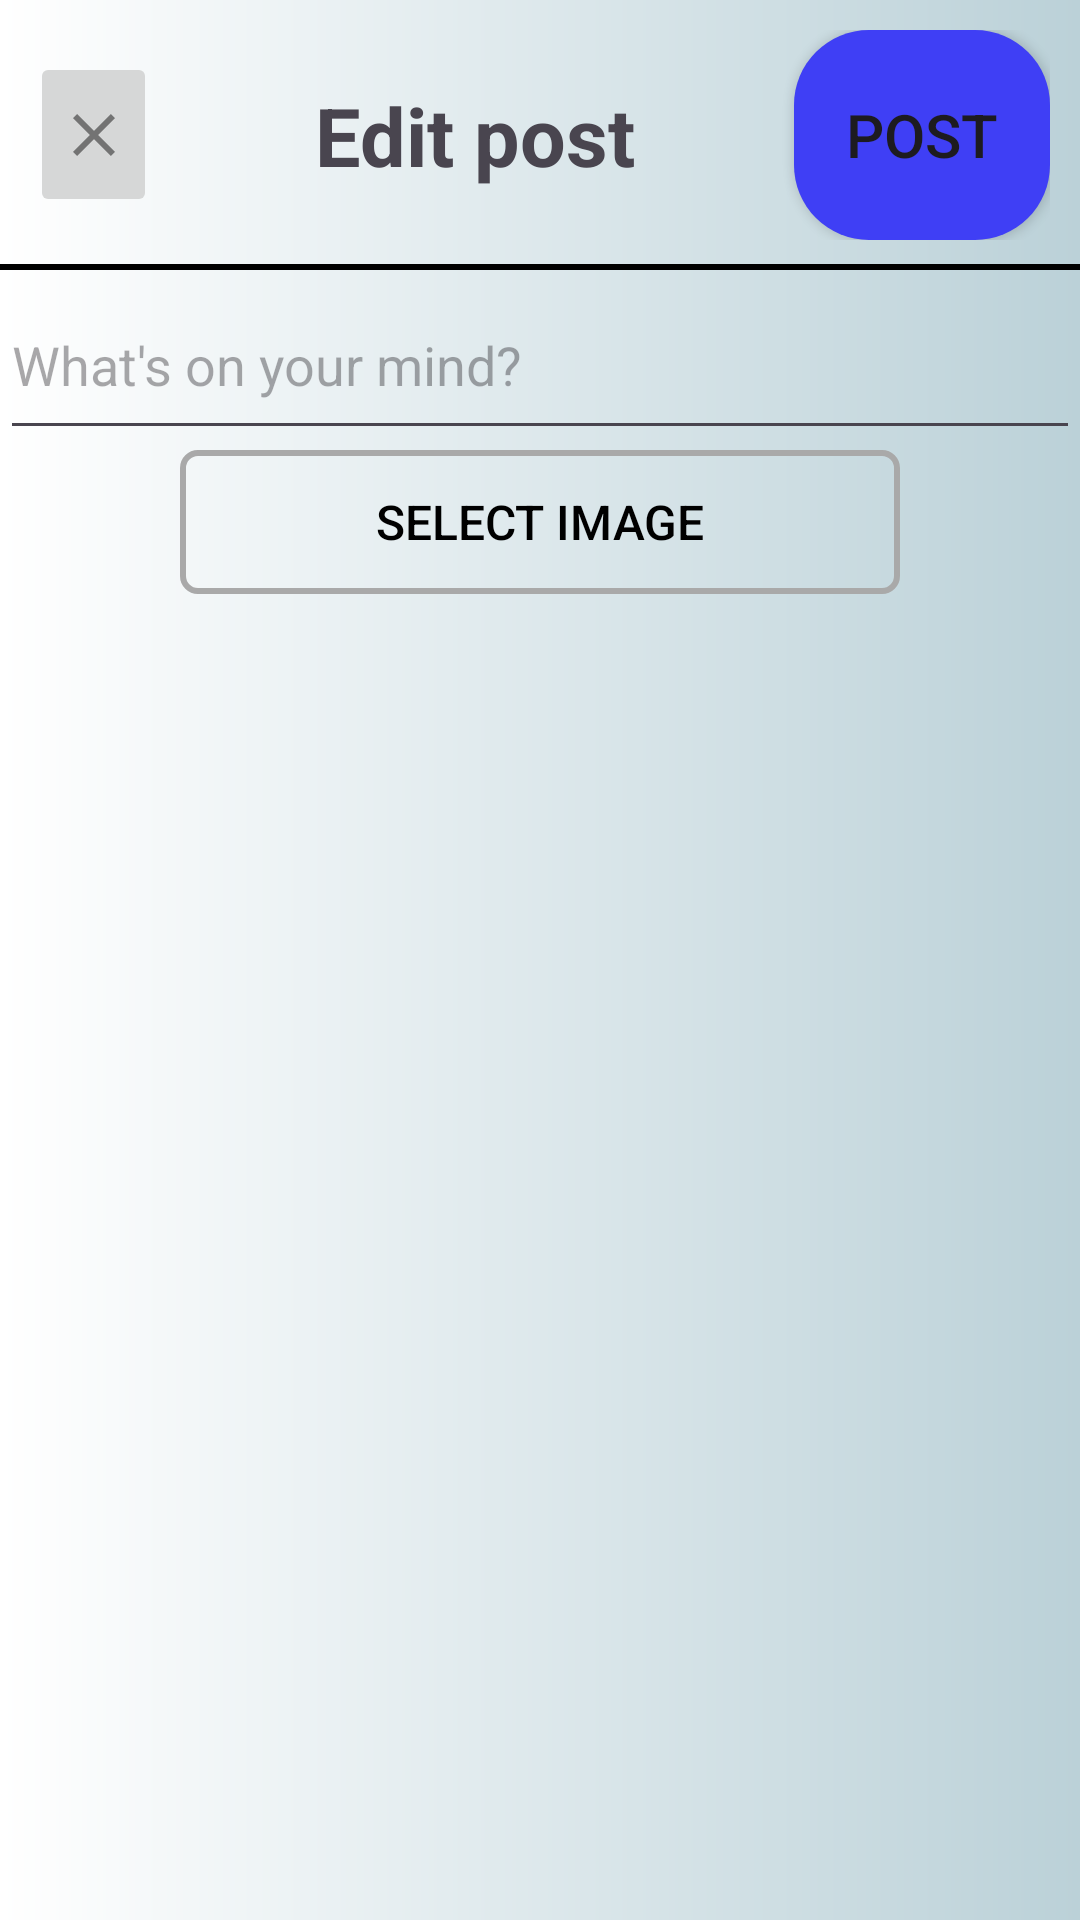

Screen size 1080w x 1920h. Icon name, then its center in pixels as (x,y):
close: (93,134)
